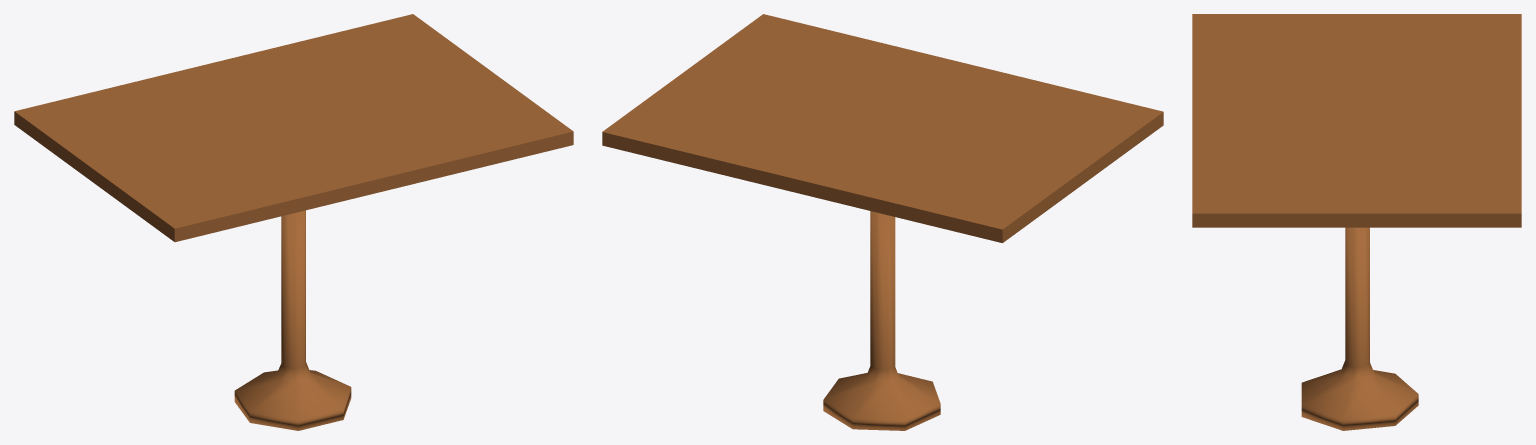
Rendered from Table01.fbx.
3 renders of one model, left to right at view 1: azimuth 30°, elevation 25°; view 2: azimuth 150°, elevation 25°; view 3: azimuth 270°, elevation 25°, orthographic. The views are drawn at different scales.
Visible parts, largest first — view 1: Table01; view 2: Table01; view 3: Table01.
Boxes of the visible parts, box(x1,y1,x2,y2) form: Table01: box(14, 14, 573, 430); Table01: box(602, 14, 1163, 430); Table01: box(1192, 14, 1521, 430).
Bounding box in the file's own units: 132 × 89.92 × 92.
